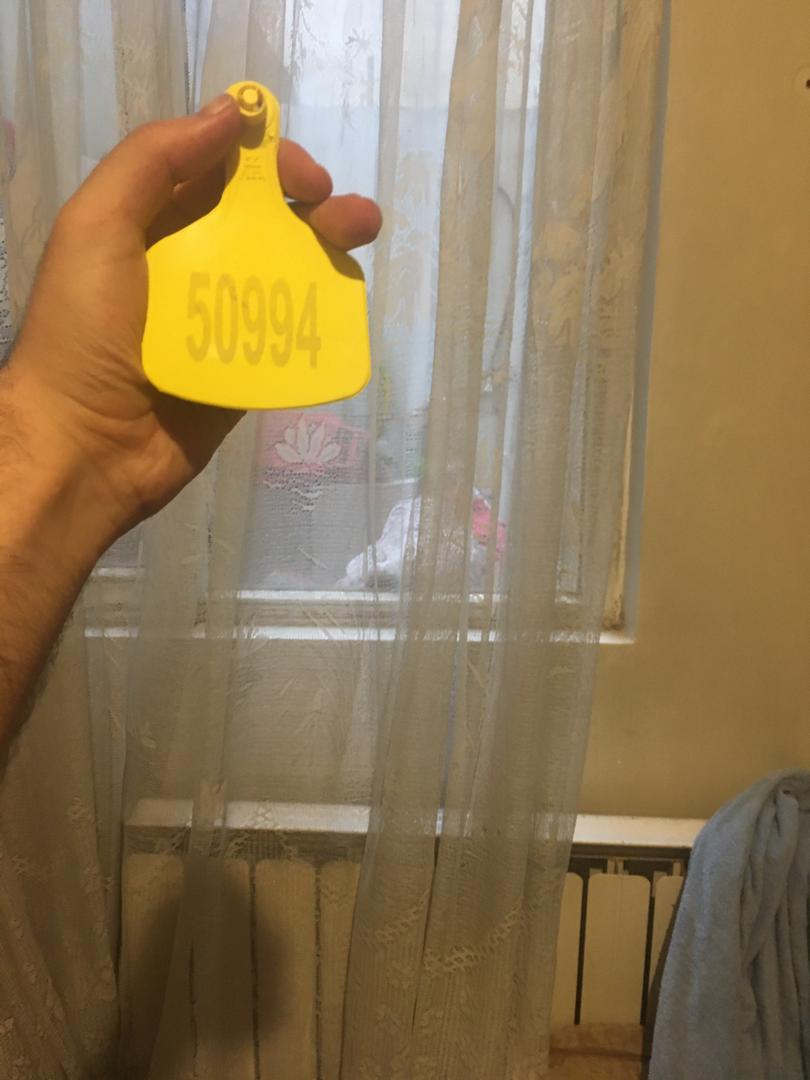digit: (182, 268, 326, 371)
